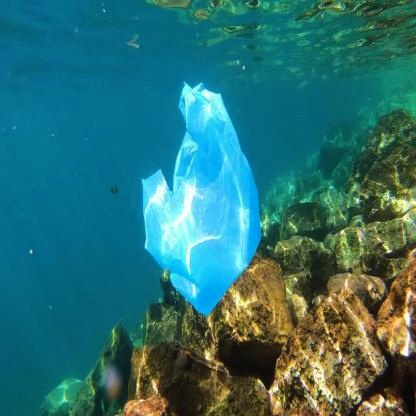pbag: (134, 72, 267, 320)
